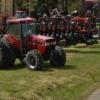Tractor: (5, 9, 72, 78)
